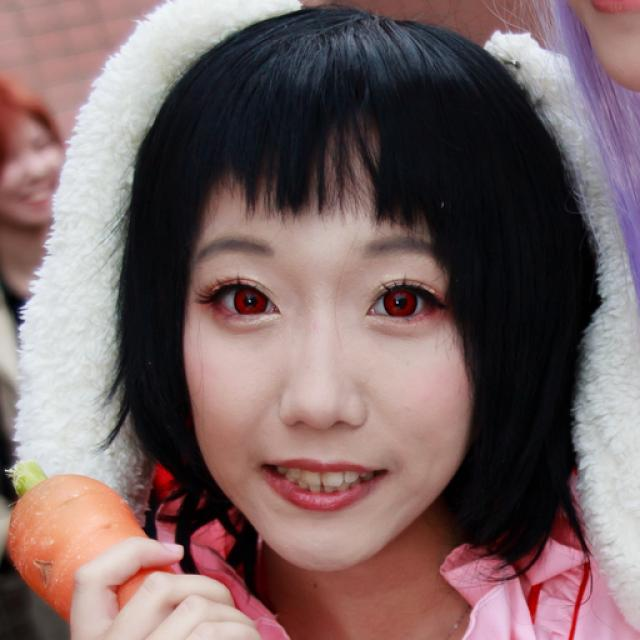happy: (180, 138, 482, 572)
